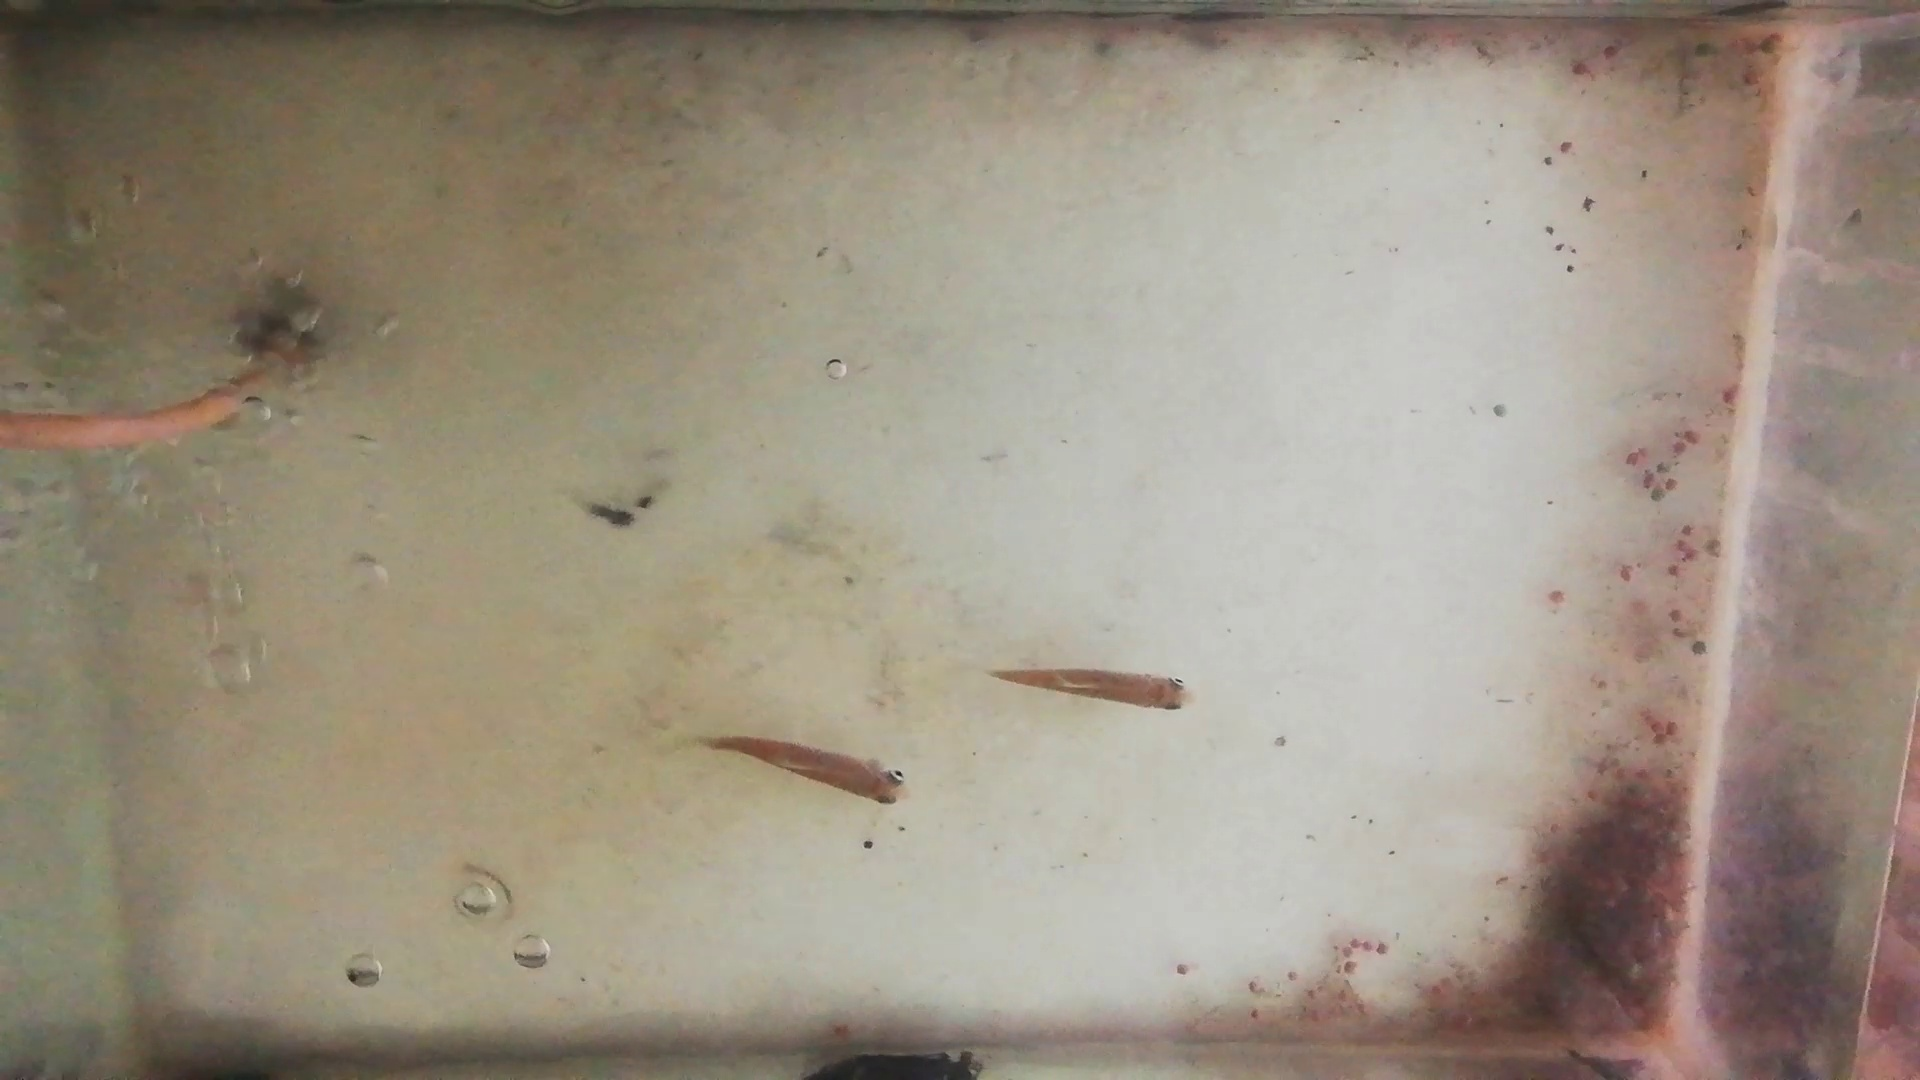fish: (698, 738, 909, 806), (992, 669, 1196, 712)
